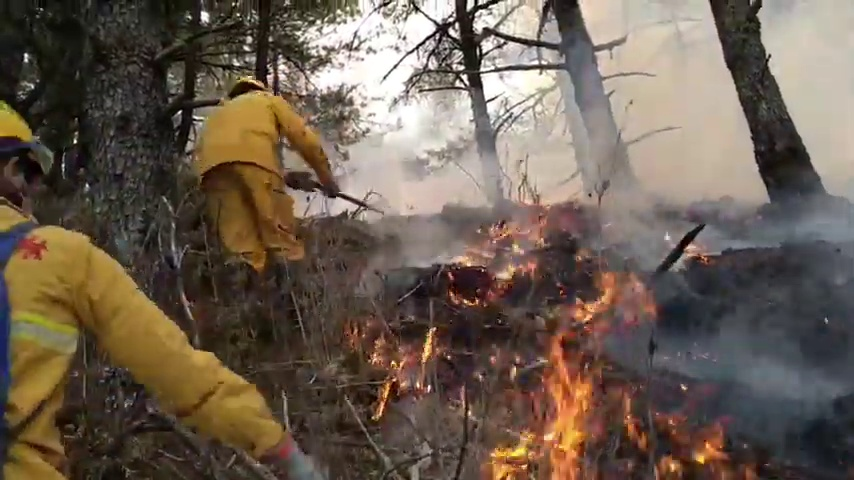fire: (498, 353, 585, 480), (583, 277, 616, 319), (698, 436, 725, 460), (487, 219, 516, 236), (375, 384, 389, 419), (423, 328, 434, 363), (454, 254, 472, 268)
